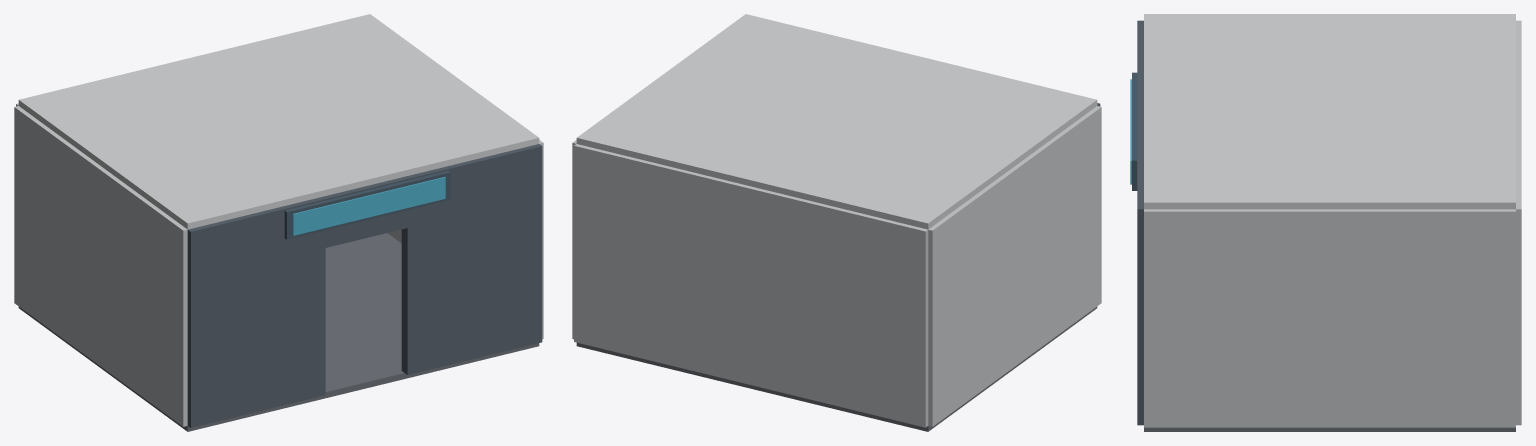
File: tech_shop_interior.glb
The picture shows the model from 3 angles, left to right: view 1: azimuth 30°, elevation 25°; view 2: azimuth 150°, elevation 25°; view 3: azimuth 270°, elevation 25°; orthographic projection. The views are drawn at different scales.
Parts seen in each view (by area): view 1: geometry_0; view 2: geometry_0; view 3: geometry_0.
Part boxes in pixels (<box>): geometry_0: <box>14,14,543,431</box>; geometry_0: <box>572,14,1101,431</box>; geometry_0: <box>1130,14,1521,431</box>.
Bounding box in the file's own units: 6.15 × 3.4 × 5.26.
